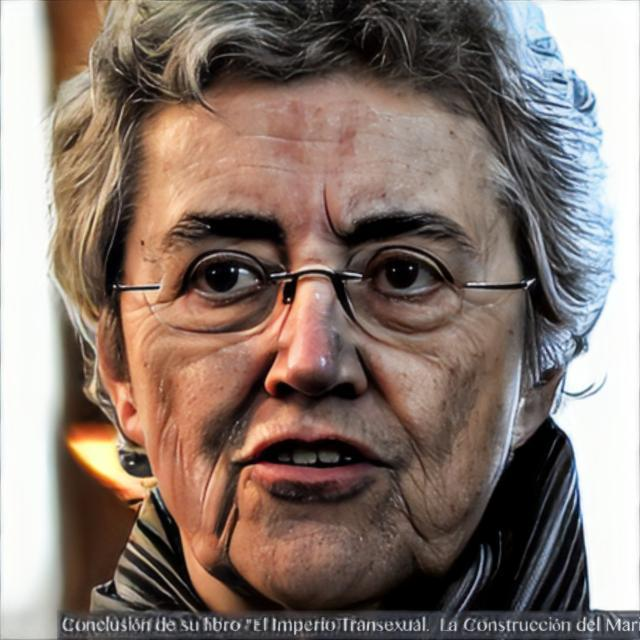anger: (121, 52, 526, 600)
